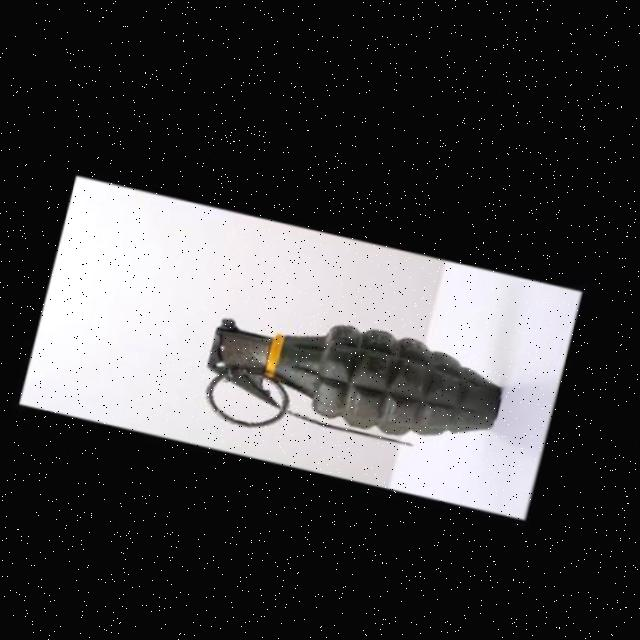grenade: (171, 270, 556, 492)
